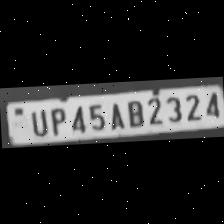2: (180, 92, 202, 122), (144, 95, 162, 125)
3: (162, 93, 182, 123)
4: (66, 102, 87, 134), (201, 89, 220, 119)
5: (84, 100, 106, 132)
A: (105, 99, 124, 129)
B: (123, 97, 143, 127)
P: (44, 104, 66, 136)
U: (26, 106, 48, 136)
